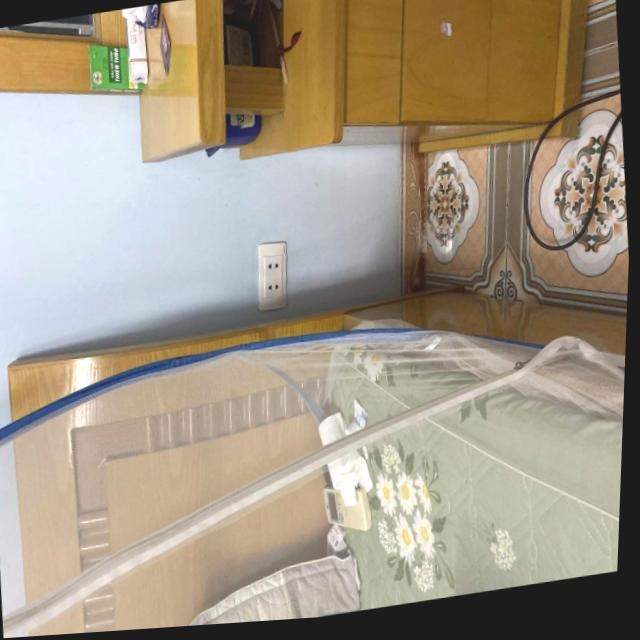outlet: (252, 237, 292, 313)
